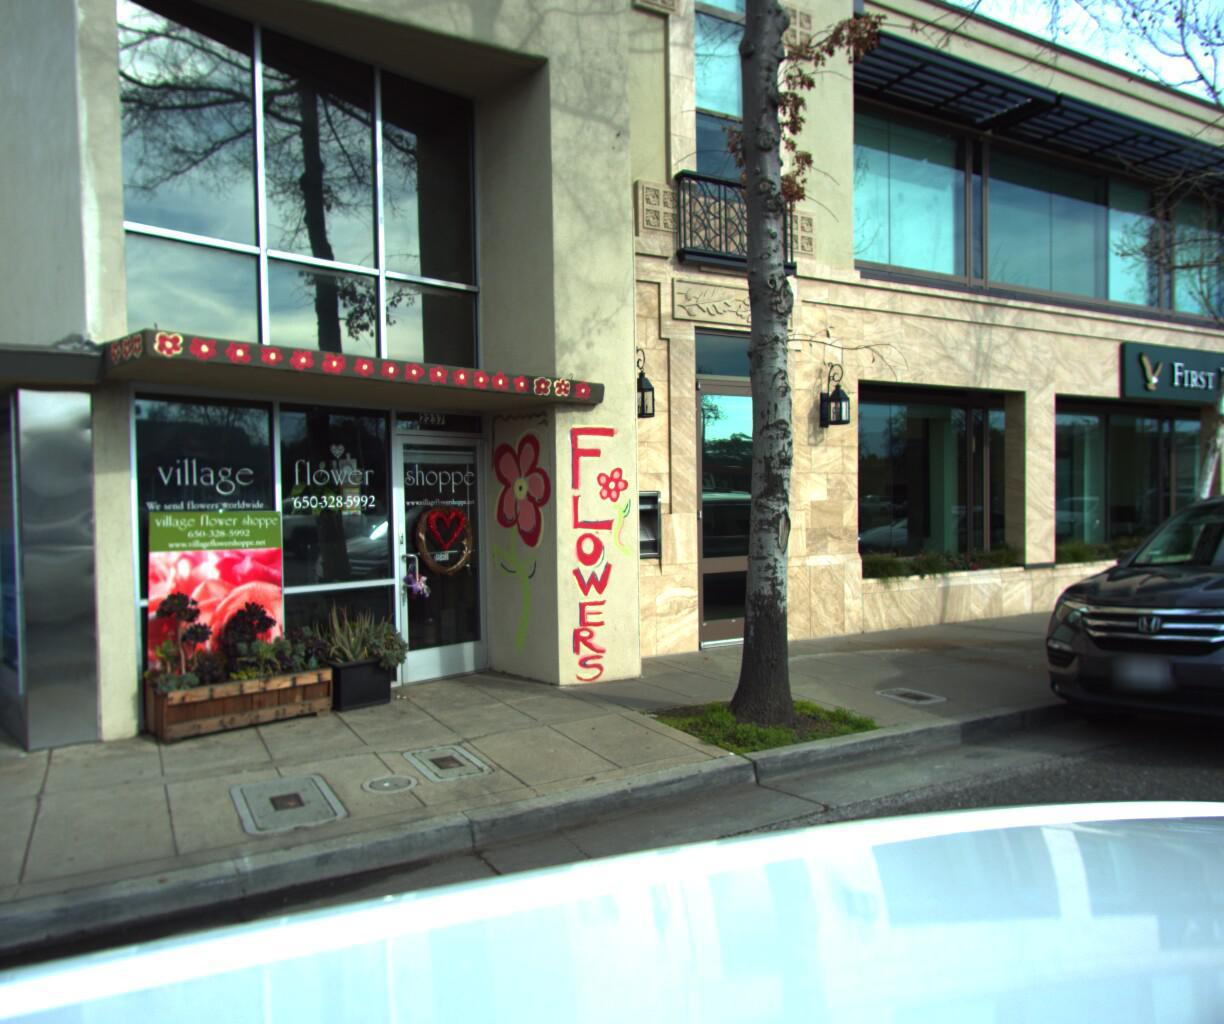car: (991, 470, 1224, 835)
